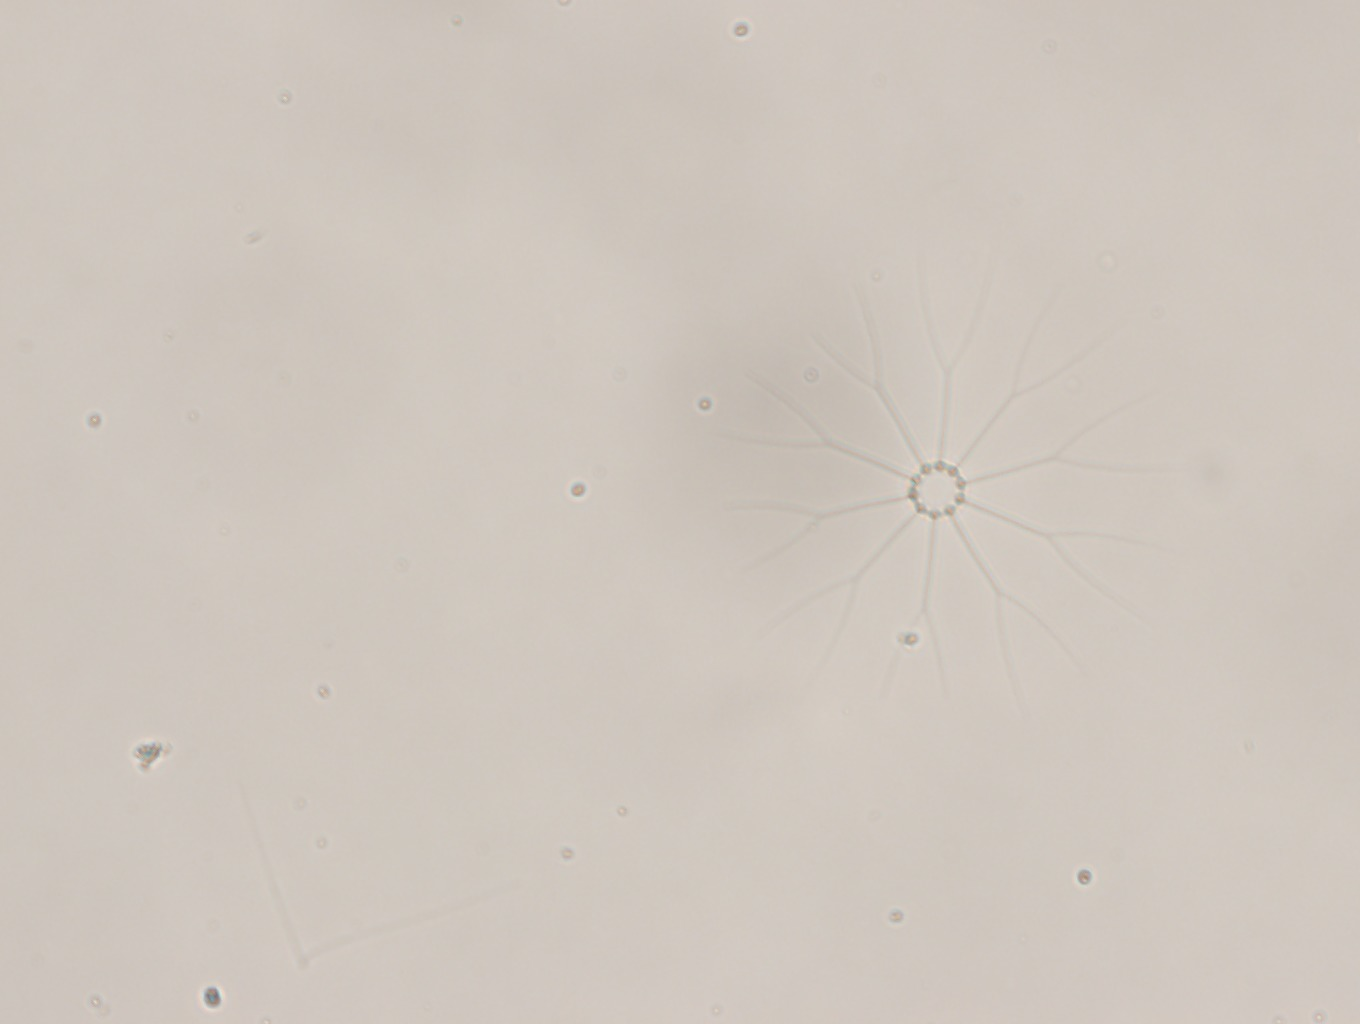bacteriastrum: (706, 248, 1173, 717)
